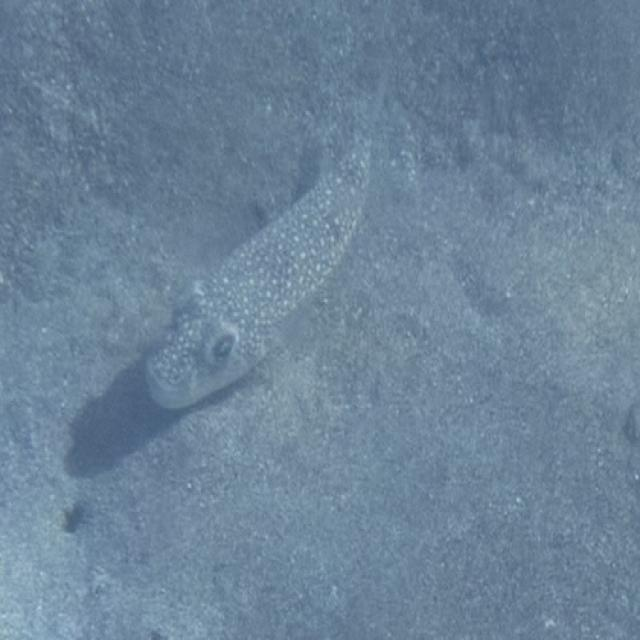Balik: (146, 139, 369, 407)
